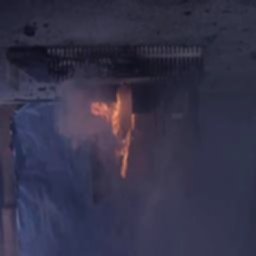fire: (90, 88, 139, 178)
